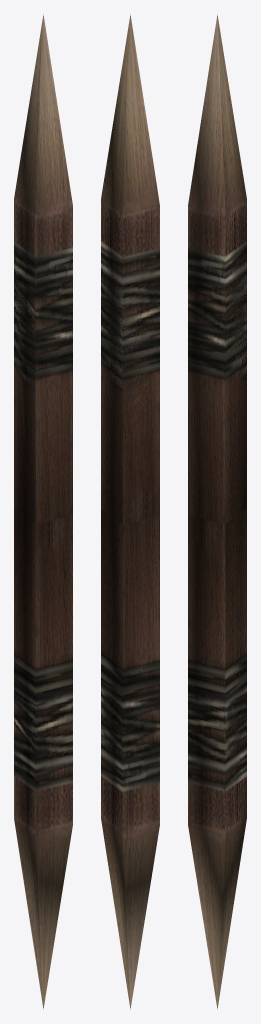
File: stbr7.dae
The picture shows the model from 3 angles, left to right: view 1: azimuth 30°, elevation 25°; view 2: azimuth 210°, elevation 25°; view 3: azimuth 330°, elevation 25°; orthographic projection.
Parts seen in each view (by area): view 1: horkol, verkol; view 2: horkol, verkol; view 3: horkol, verkol.
Boxes of the visible parts, x1,y1,x2,y2 form: horkol: [14, 14, 72, 1009]; verkol: [14, 246, 72, 520]; horkol: [101, 14, 159, 1009]; verkol: [101, 244, 157, 523]; horkol: [188, 14, 246, 1009]; verkol: [188, 244, 246, 522].
Bounding box in the file's own units: 0.25 × 0.25 × 6.4.
Materials: 1 (1 with a texture image).
